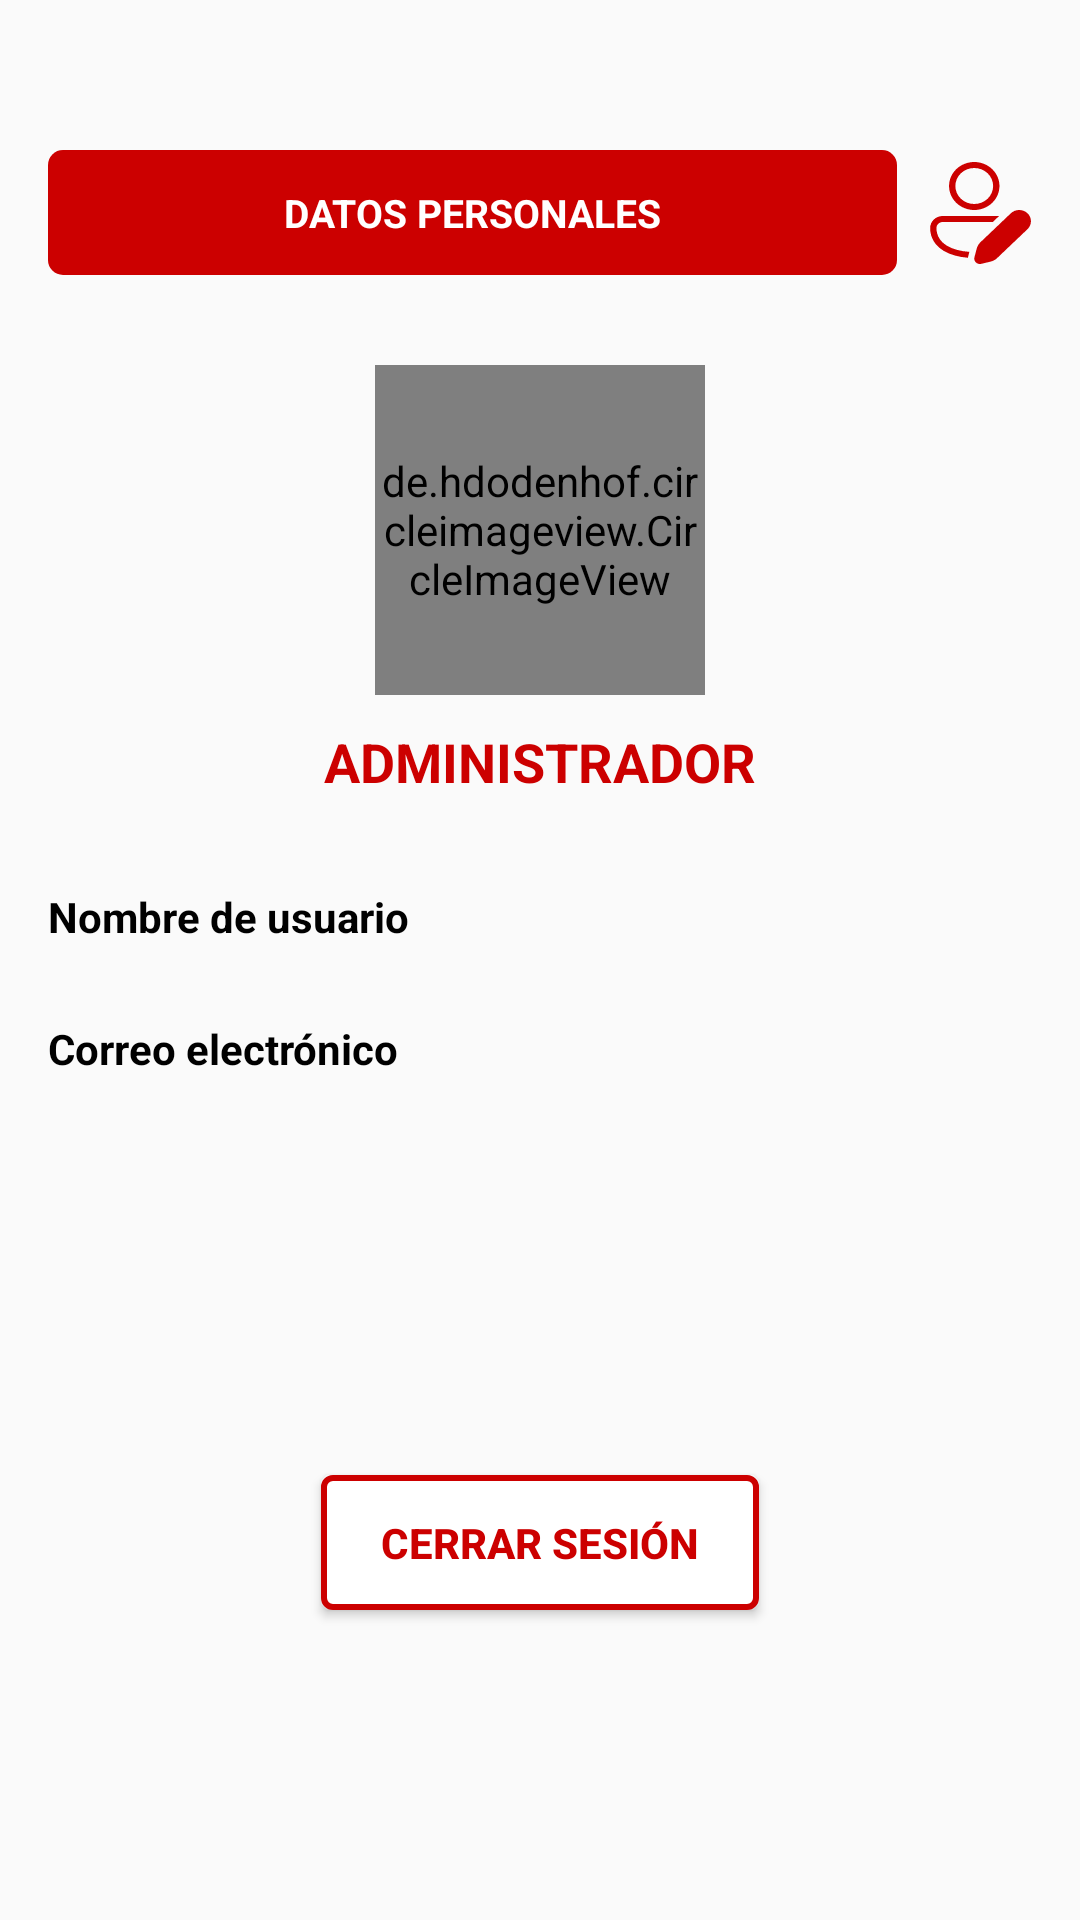

Locate icon controls on the screen. Image size 1080x1920, boxes as [x1,y1,x2,y2].
edit: [930,162,1031,264]
